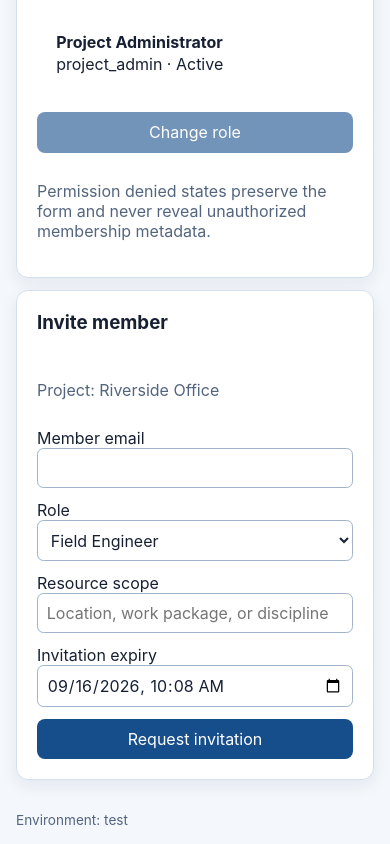
web administration shell › loads members and sends an idempotent invitation request to the server
The image size is (390, 844).
(page scrolled)
Check: the text "Project Administrator" is shown, box [56,32,223,52]
Click the button "Request invitation".
click(195, 739)  # box [37,719,353,760]
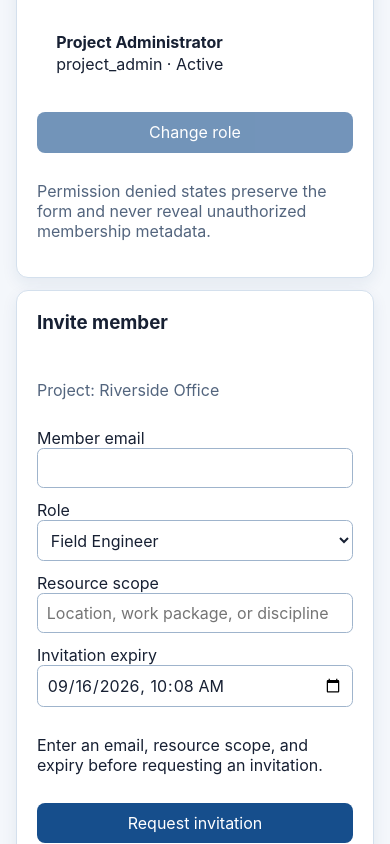
Check: the message shows "Enter an email, resource scope, and expiry", box [37,735,323,775]
Type "guest@example.test" into the field labelled "Member email".
click(195, 468); type("guest@example.test")  # box [37,448,353,488]
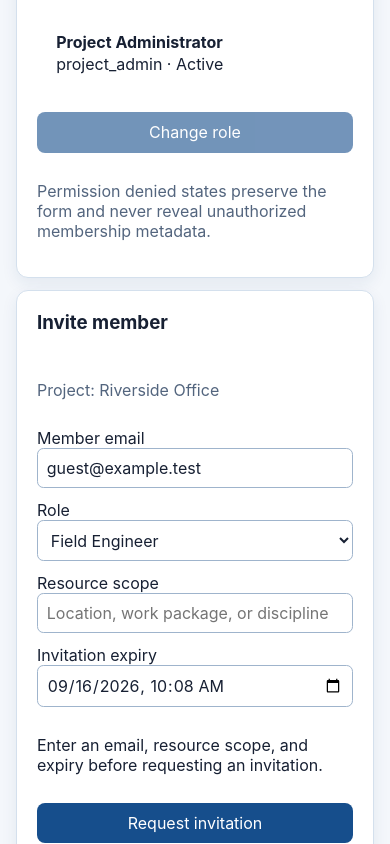
Type "Level 01" into the field labelled "Resource scope".
click(195, 613); type("Level 01")  # box [37,594,353,633]
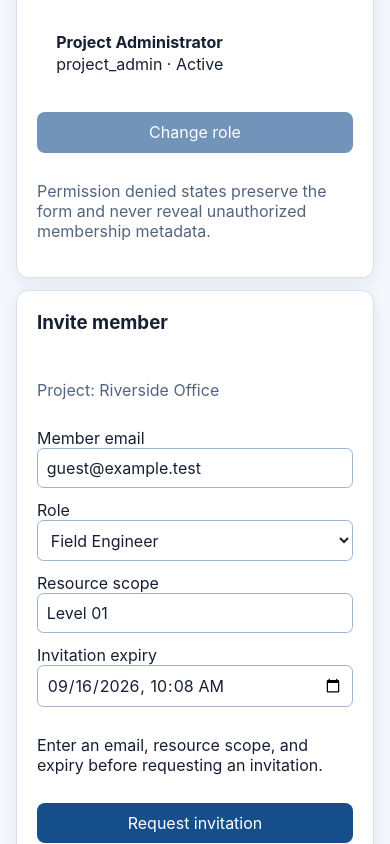
Click the button "Request invitation".
click(195, 823)  # box [37,803,353,843]
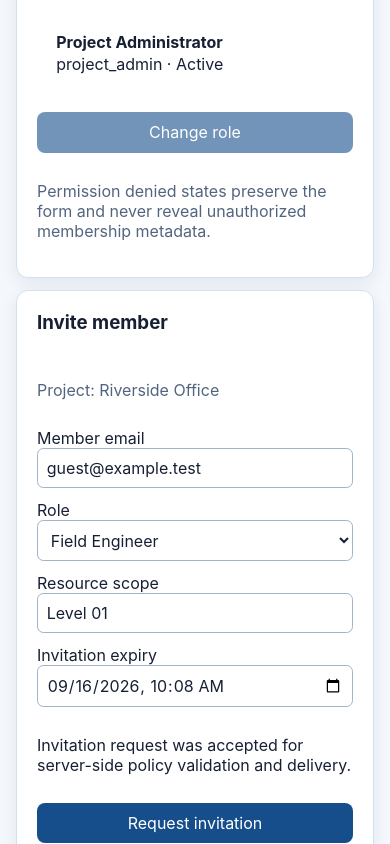
Check: the message shows "accepted for server-side policy validation", box [37,735,351,775]
